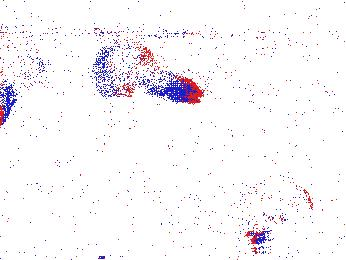flame jellyfish: (87, 38, 203, 105), (1, 42, 53, 126), (246, 179, 311, 245)
